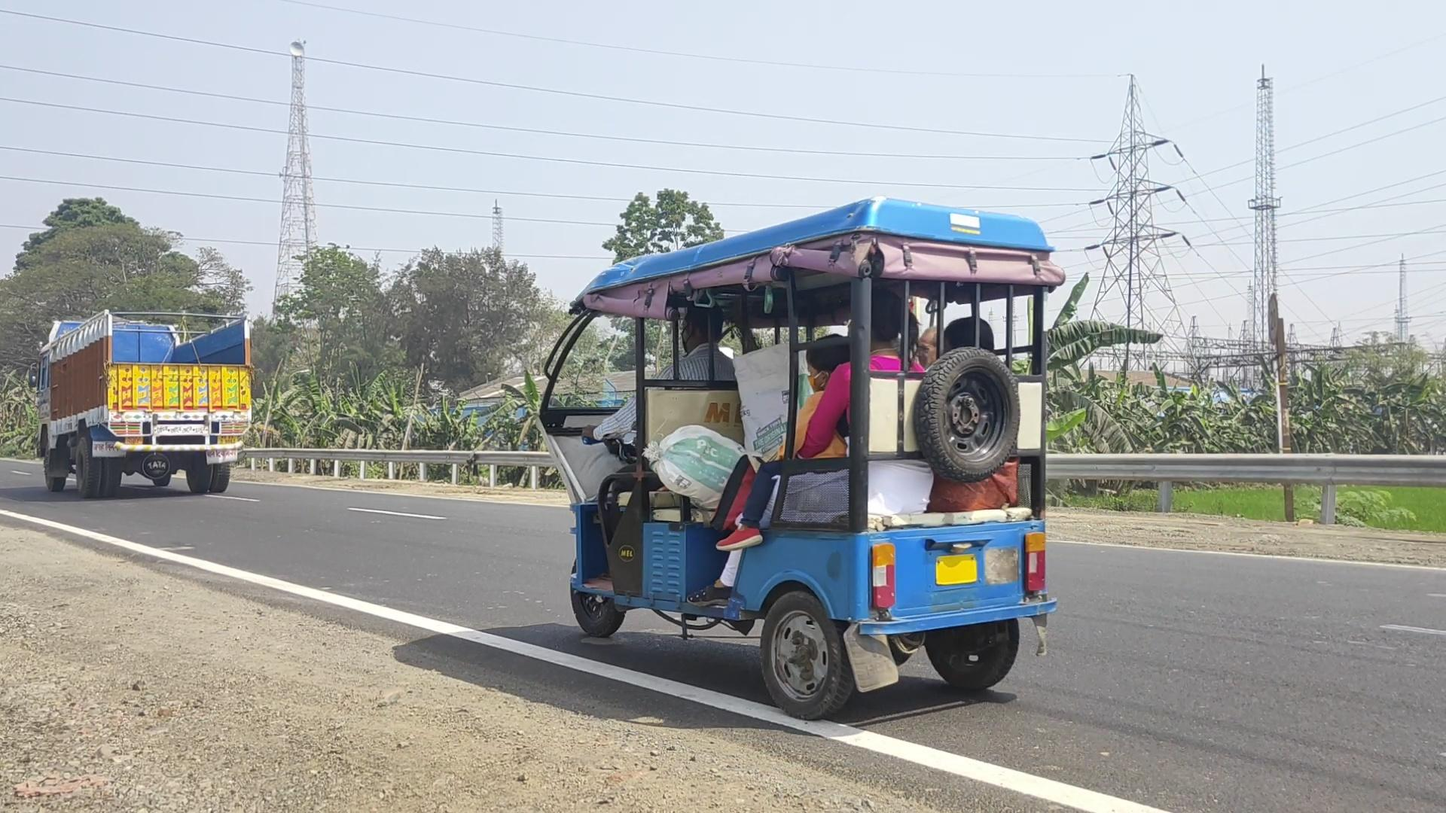Auto: (536, 196, 1066, 723)
truck: (29, 309, 255, 498)
